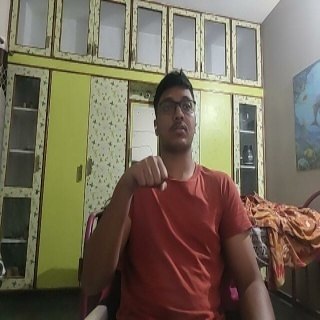Yes: (122, 155, 172, 200)
